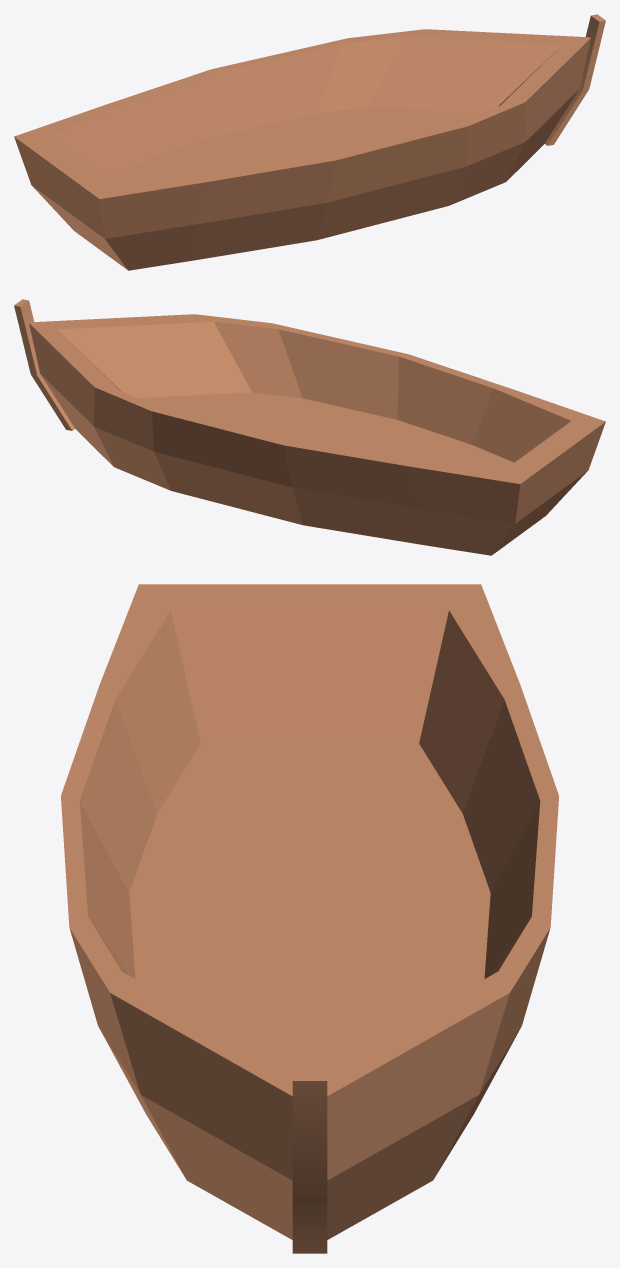
The model's file is Boat02.fbx.
3 renders of one model, top to bottom at view 1: azimuth 30°, elevation 25°; view 2: azimuth 150°, elevation 25°; view 3: azimuth 270°, elevation 25°, orthographic. The views are drawn at different scales.
Parts seen in each view (by area): view 1: Boat02; view 2: Boat02; view 3: Boat02.
Boxes of the visible parts, <box> form: Boat02: <box>14,14,605,270</box>; Boat02: <box>14,299,605,555</box>; Boat02: <box>61,584,558,1253</box>.
Bounding box in the file's own units: 169 × 66.76 × 33.06.
